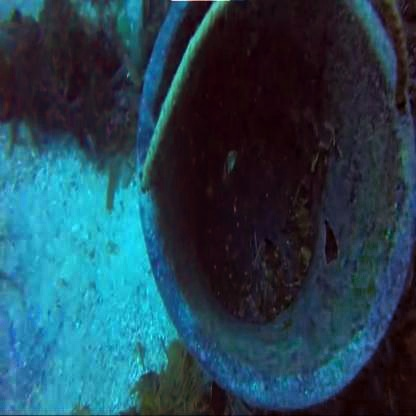plastic: (154, 60, 416, 398)
